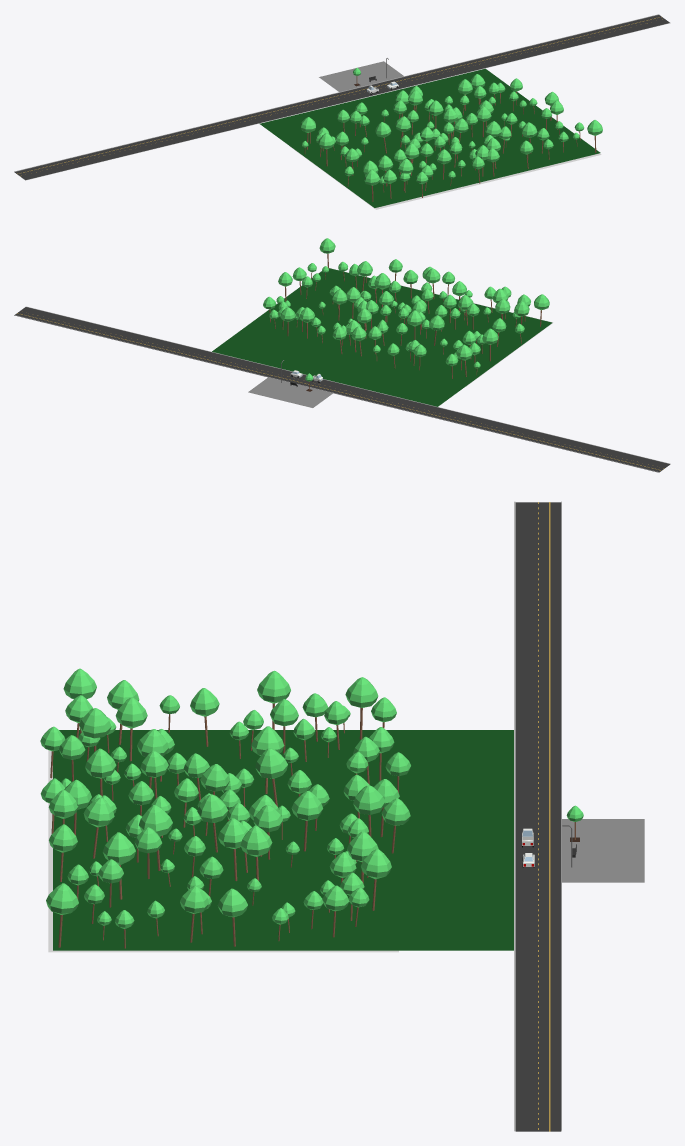
File: lizard_crossing.fbx
3 renders of one model, top to bottom at view 1: azimuth 30°, elevation 25°; view 2: azimuth 150°, elevation 25°; view 3: azimuth 270°, elevation 25°, orthographic. The views are drawn at different scales.
Visible parts, largest first — view 1: grass, street, street.001, Plane, curb, trees, far_curb, center lane markers; view 2: grass, street.001, street, Plane, curb, far_curb, center lane markers; view 3: grass, street, street.001, Plane, trees, far_curb, center lane markers.
Boxes of the visible parts, x1,y1,x2,y2 form: grass: [259, 68, 600, 207]; street: [14, 15, 664, 175]; street.001: [20, 19, 669, 180]; Plane: [319, 61, 403, 91]; curb: [14, 14, 658, 171]; trees: [289, 146, 601, 209]; far_curb: [26, 23, 670, 180]; center lane markers: [17, 17, 661, 173]; grass: [212, 268, 552, 406]; street.001: [20, 307, 669, 468]; street: [15, 311, 664, 472]; Plane: [248, 377, 333, 407]; curb: [14, 315, 658, 472]; far_curb: [26, 306, 670, 464]; center lane markers: [17, 313, 660, 470]; grass: [53, 730, 513, 950]; street: [538, 502, 561, 1131]; street.001: [515, 502, 538, 1131]; Plane: [562, 819, 644, 882]; trees: [48, 750, 398, 952]; far_curb: [514, 501, 515, 1131]; center lane markers: [549, 502, 550, 1131].
Bounding box in the file's own units: 20064 × 1003 × 8139.
